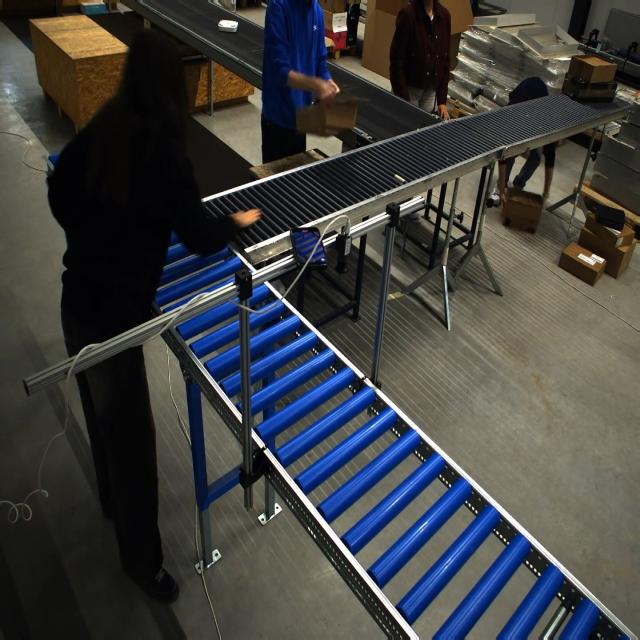box: (297, 96, 355, 137)
product: (217, 19, 239, 32)
